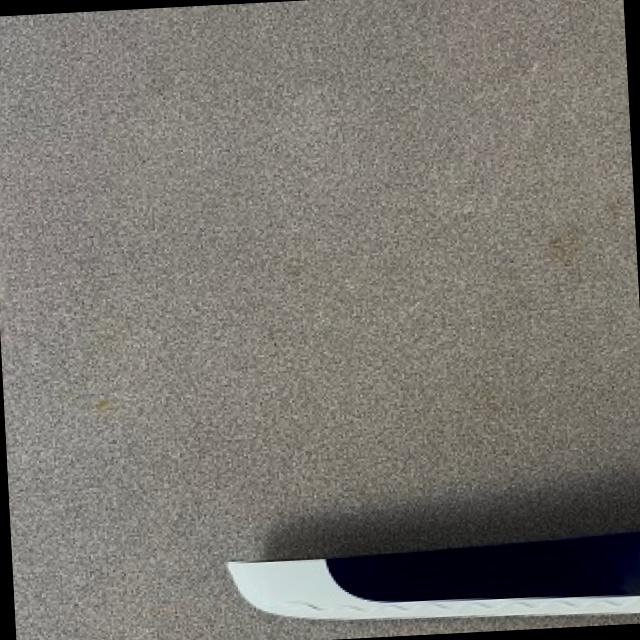healthy: (230, 532, 640, 619)
